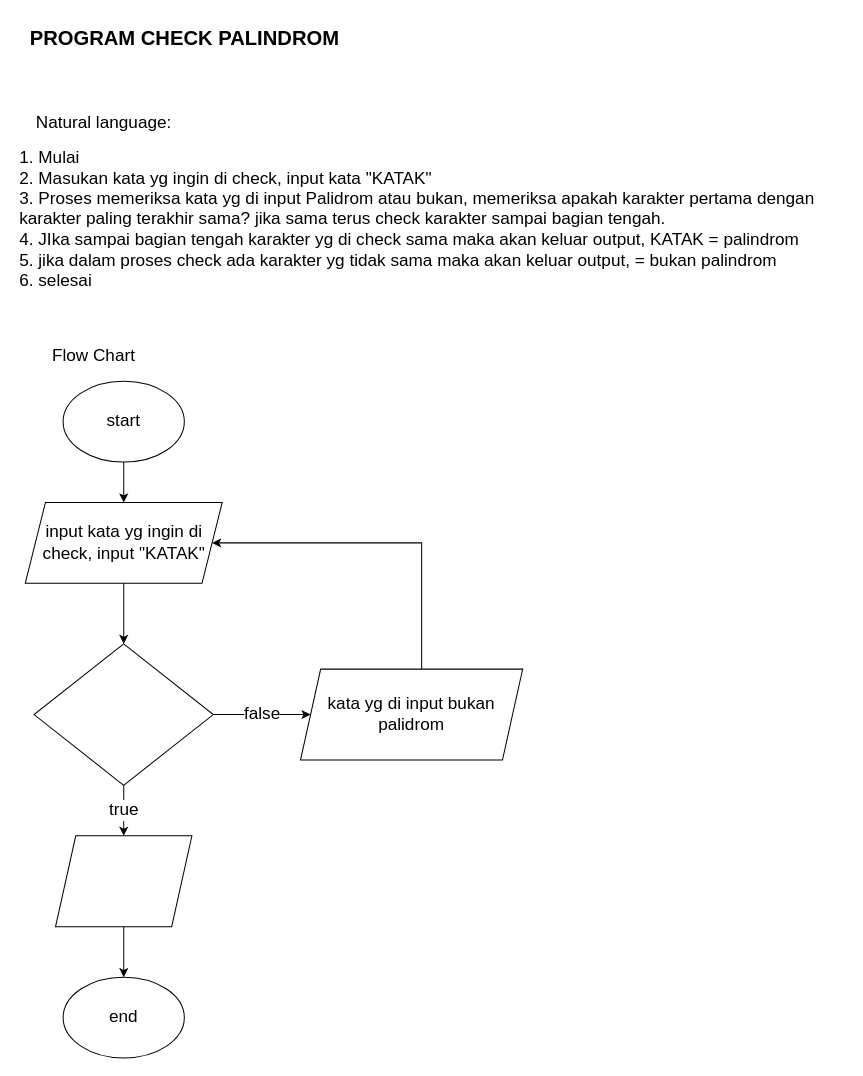
The diagram is 863 pixels wide and 1076 high, and some of its shapes have lost their labels. The centre of each missing label's shape, as x and y in pixels:
"KATAK" = Palidrom: [123,881]
apakah "KATAK" paliidrome?: [123,714]
